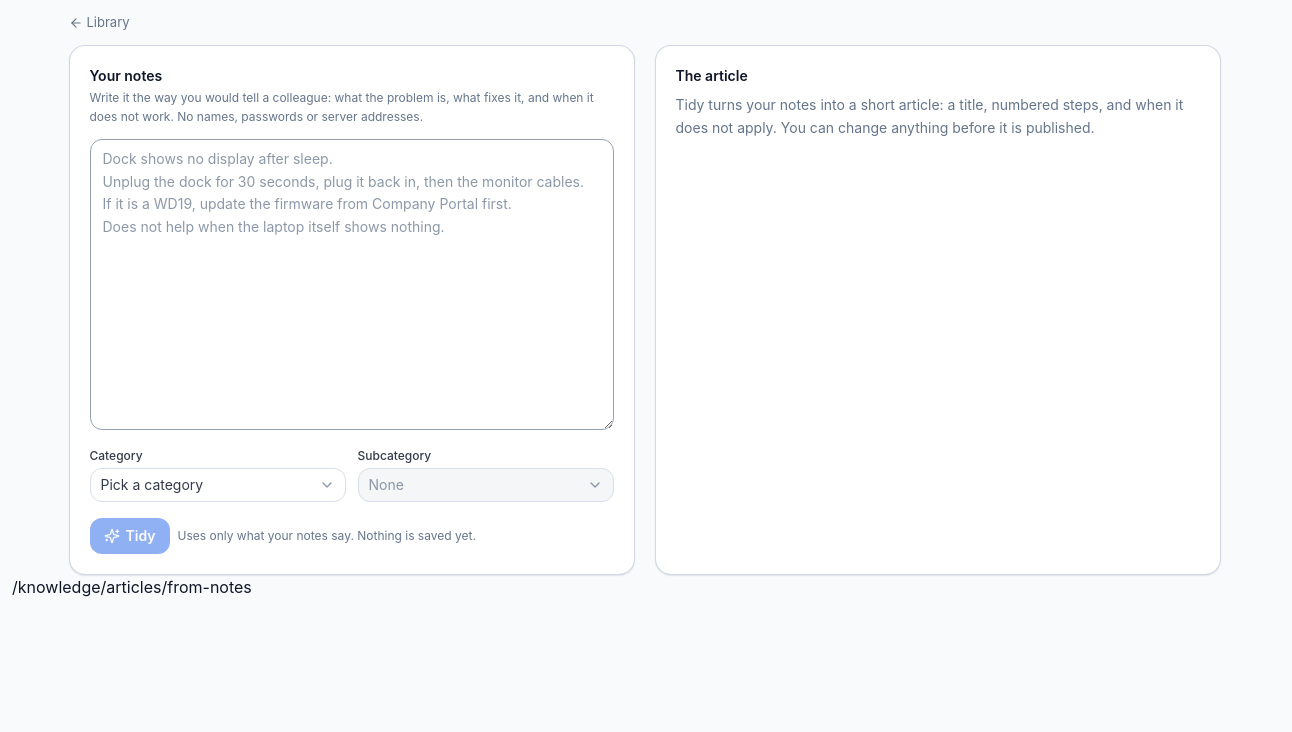
Scenario: NotesToArticle › a failed tidy says so and keeps the notes
Replace the text in the text box named "What you know" with "Dock shows no display after sleep. Unplug the dock for 30 seconds, then plug it back in.". click: (352, 284)
box: x1=90 y1=139 x2=614 y2=430
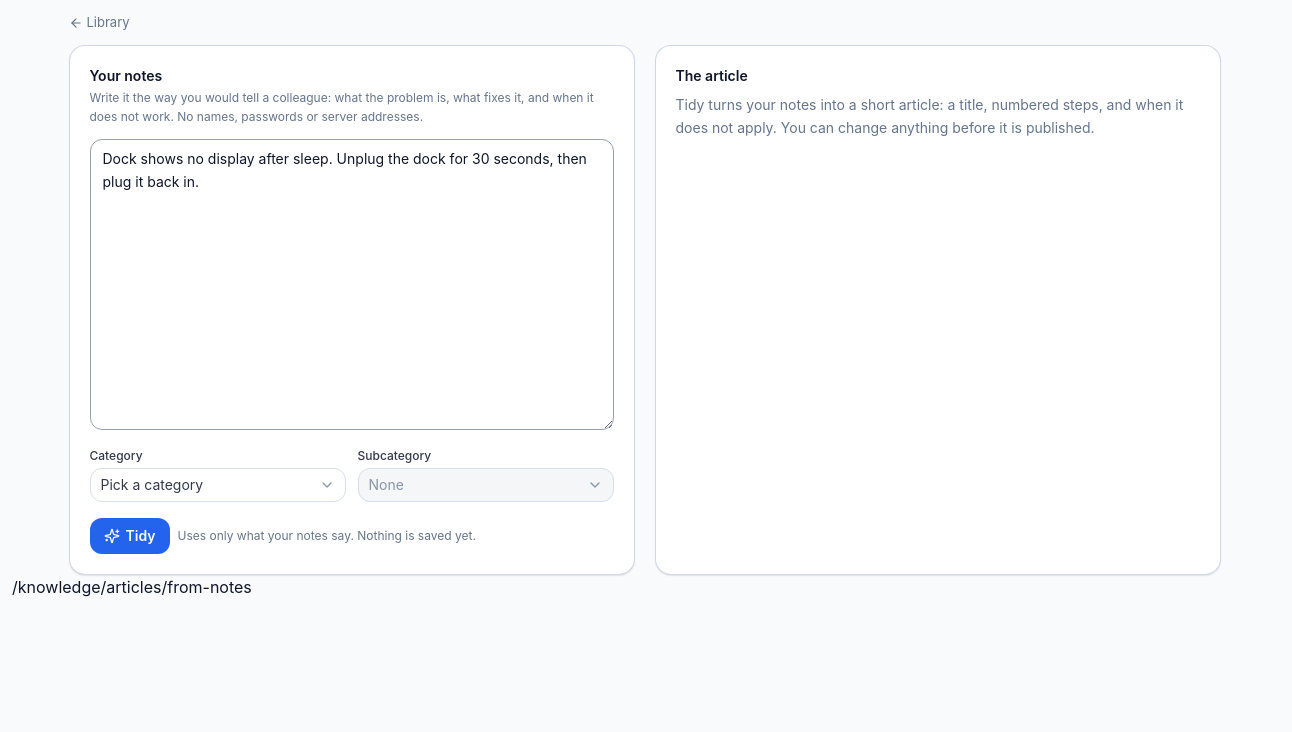
Click the button "Tidy". click: (130, 536)
box: x1=90 y1=518 x2=170 y2=554
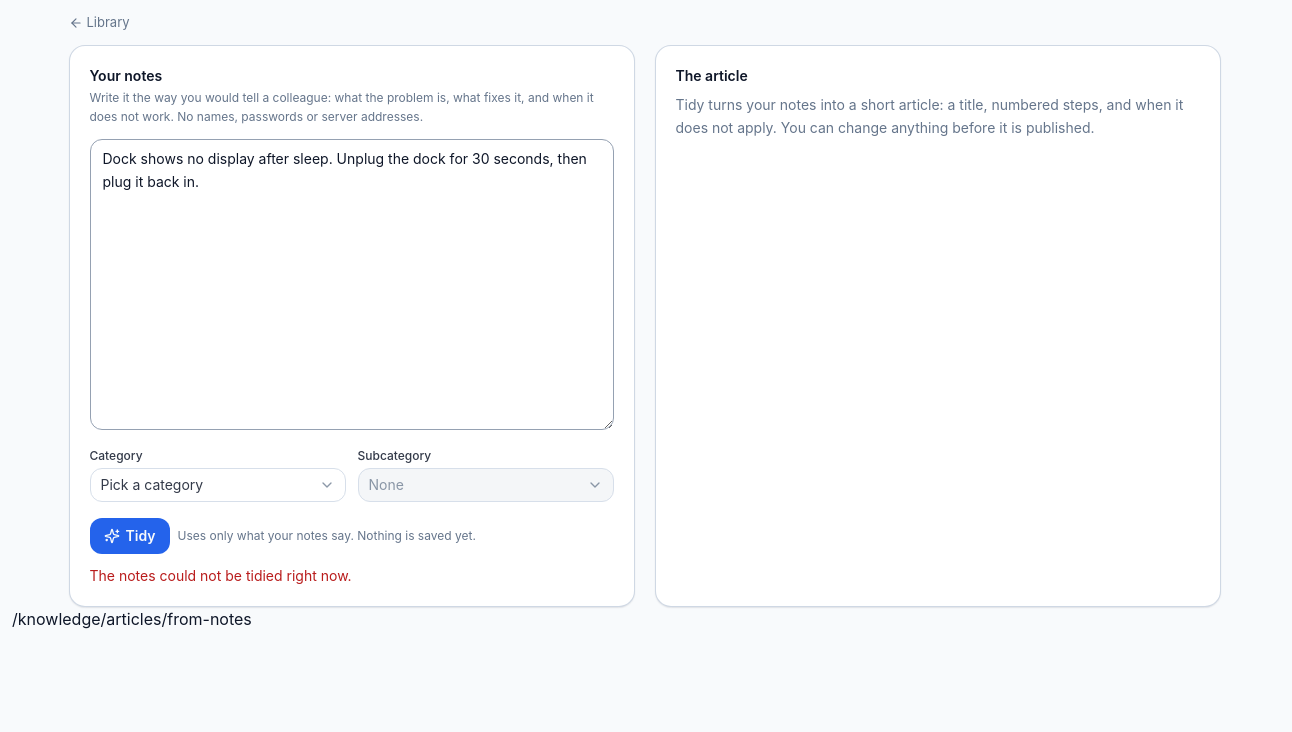
Result: the message shows "could not be tidied" at x1=90 y1=567 x2=352 y2=584
